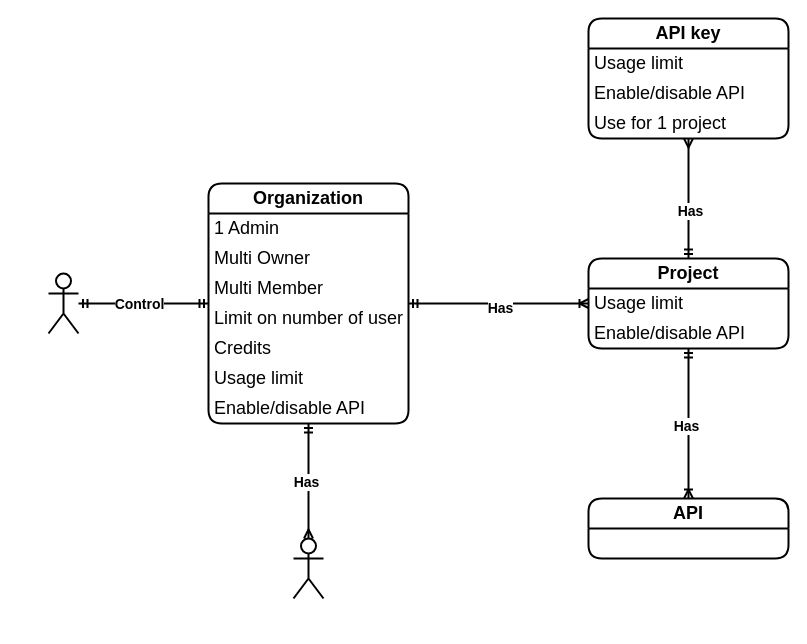
Some shapes in this 807 by 644 pixel diagram are drawn without their labels. The shapes that lost their labels are listed below. From the top down, each one's centre as x and y in pixels, then its label:
At [63,303]: "User Admin".
At [308,568]: "User".
